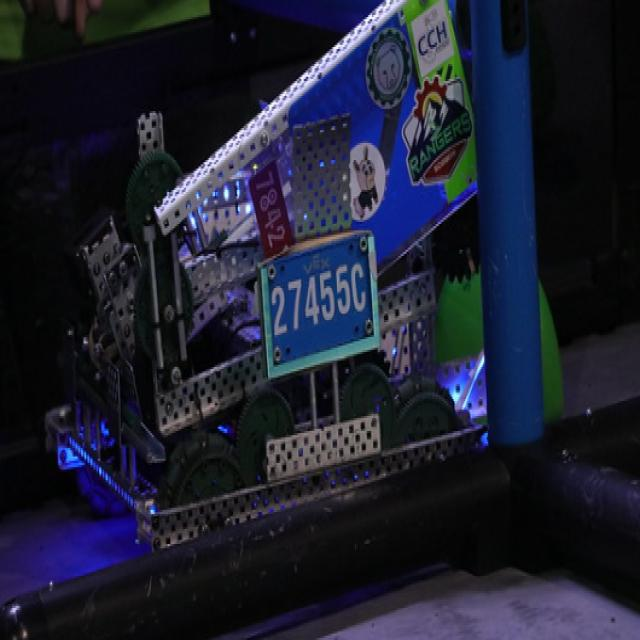License-Plates: (264, 234, 374, 358)
